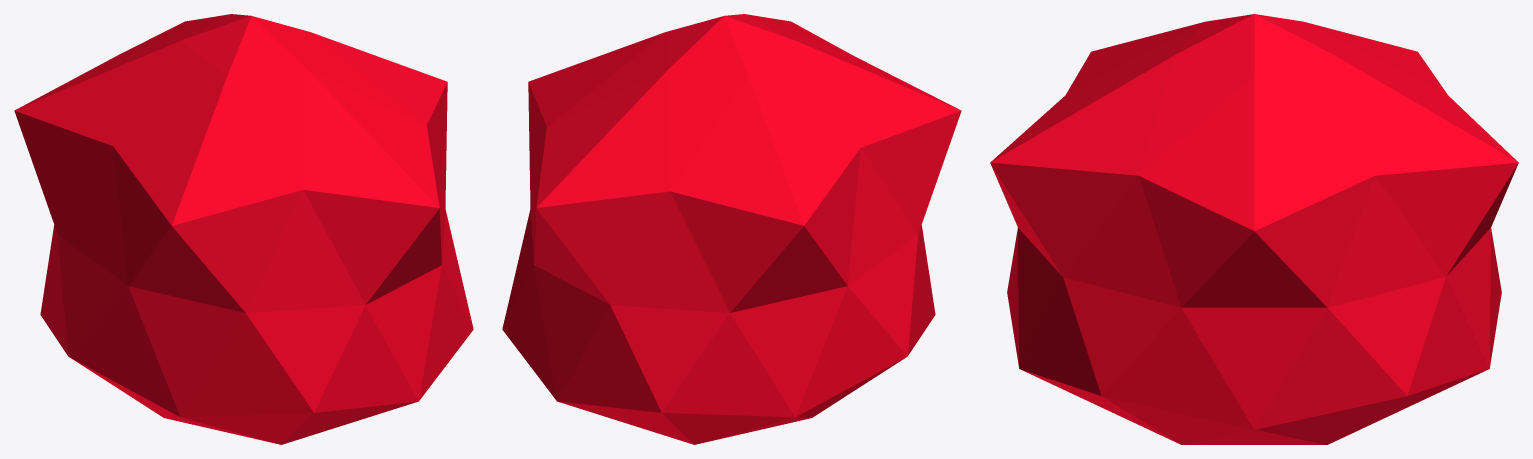
File: RadishPollen.fbx
The picture shows the model from 3 angles, left to right: view 1: azimuth 30°, elevation 25°; view 2: azimuth 150°, elevation 25°; view 3: azimuth 270°, elevation 25°; orthographic projection. The views are drawn at different scales.
Visible parts, largest first — view 1: Icosphere; view 2: Icosphere; view 3: Icosphere.
Part boxes in pixels (x1,y1,x2,y2): Icosphere: [14, 14, 473, 444]; Icosphere: [502, 14, 961, 444]; Icosphere: [990, 14, 1518, 444].
Size of the model in its own units: 116 by 112 by 135.
